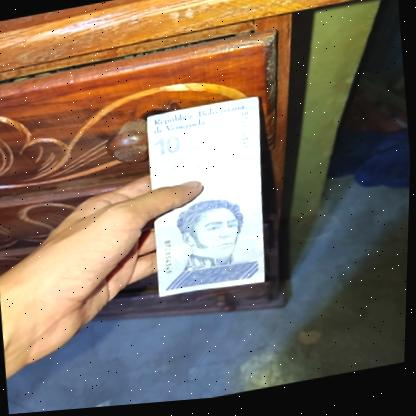ten-front-vef: (142, 98, 279, 306)
